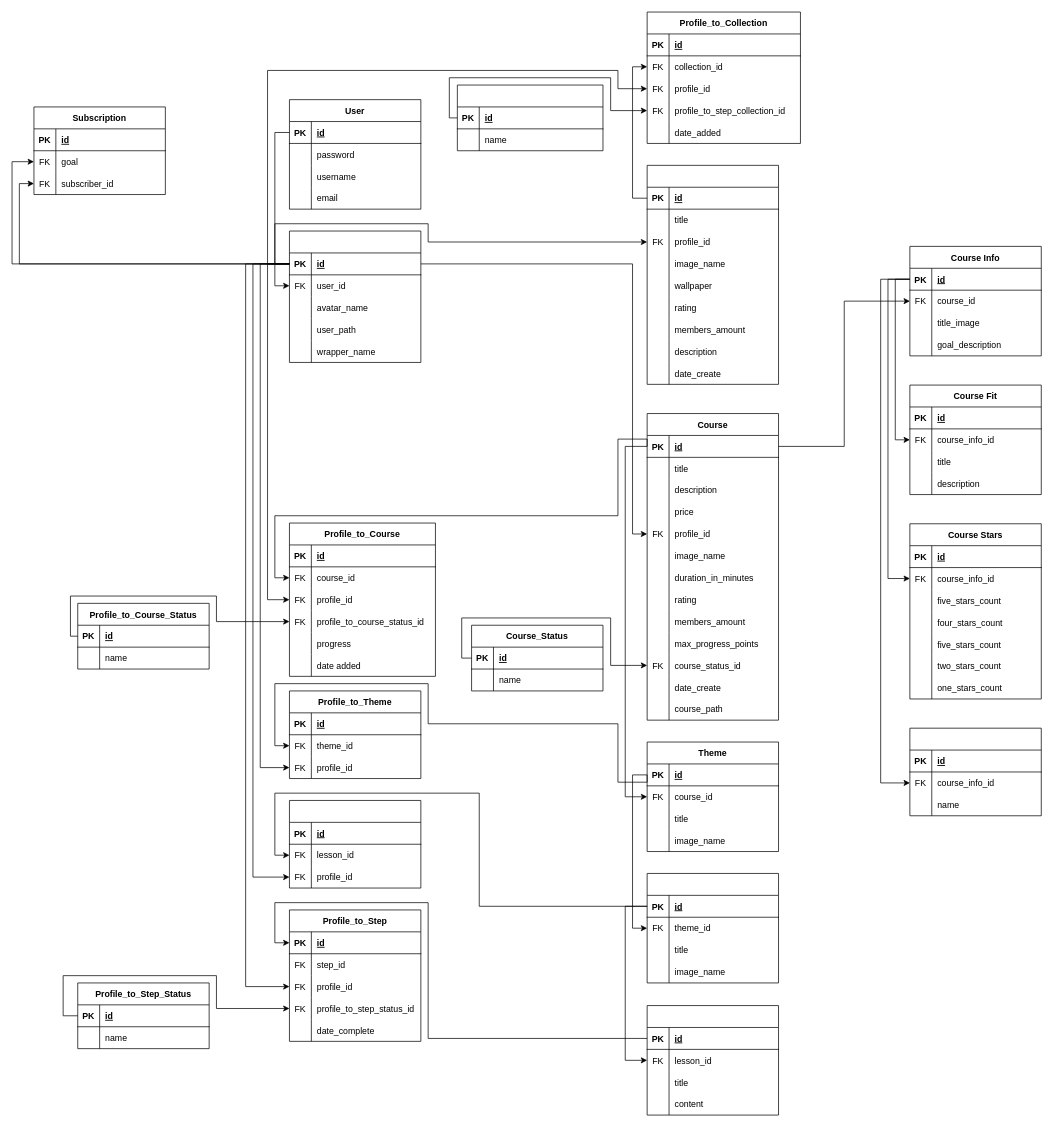
The diagram is 1053 pixels wide and 1127 high, and some of its shapes have lost their labels. Each missing label, with the box of its shape:
Collection: (646, 165, 779, 384)
Course Skill: (909, 727, 1041, 816)
Lesson: (646, 873, 779, 983)
Profile: (289, 230, 421, 362)
Profile_to_Collection_Status: (457, 84, 603, 151)
Profile_to_Lesson: (289, 800, 421, 888)
Step: (646, 1005, 779, 1115)
